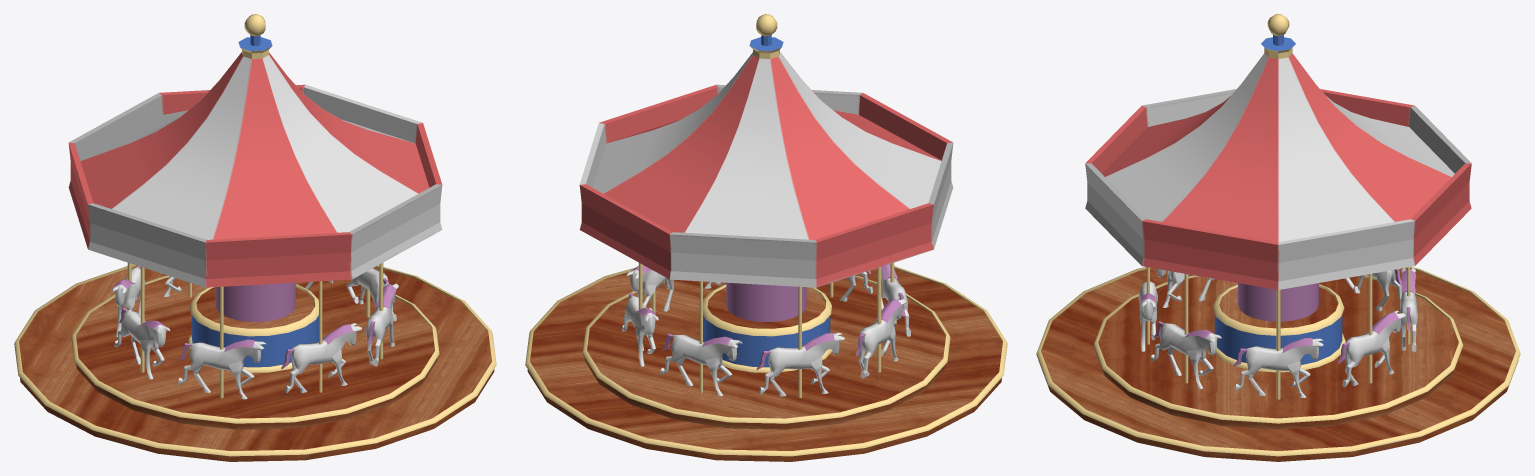
File: Carousel_Final.fbx
3 renders of one model, left to right at view 1: azimuth 30°, elevation 25°; view 2: azimuth 150°, elevation 25°; view 3: azimuth 270°, elevation 25°, orthographic.
Parts seen in each view (by area): view 1: carousel_Final; view 2: carousel_Final; view 3: carousel_Final.
Boxes of the visible parts, x1,y1,x2,y2 form: carousel_Final: (14, 14, 496, 461); carousel_Final: (525, 14, 1007, 461); carousel_Final: (1036, 14, 1520, 461).
Size of the model in its own units: 24.22 by 19.07 by 24.22.
